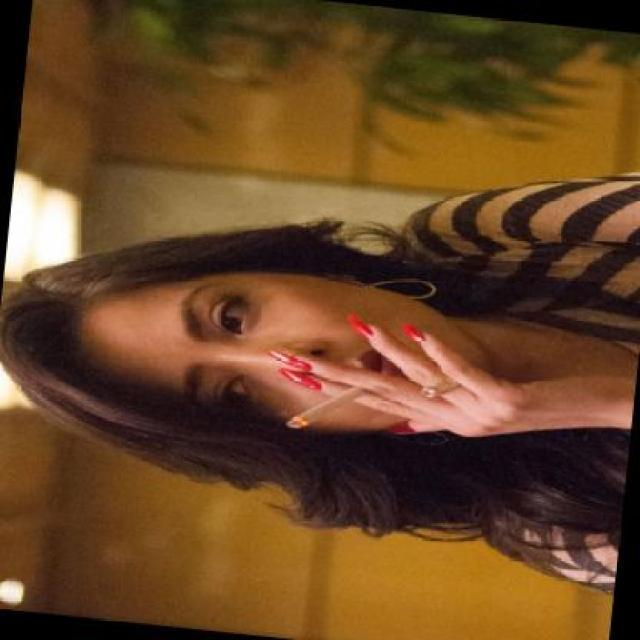smoke: (284, 376, 368, 433)
